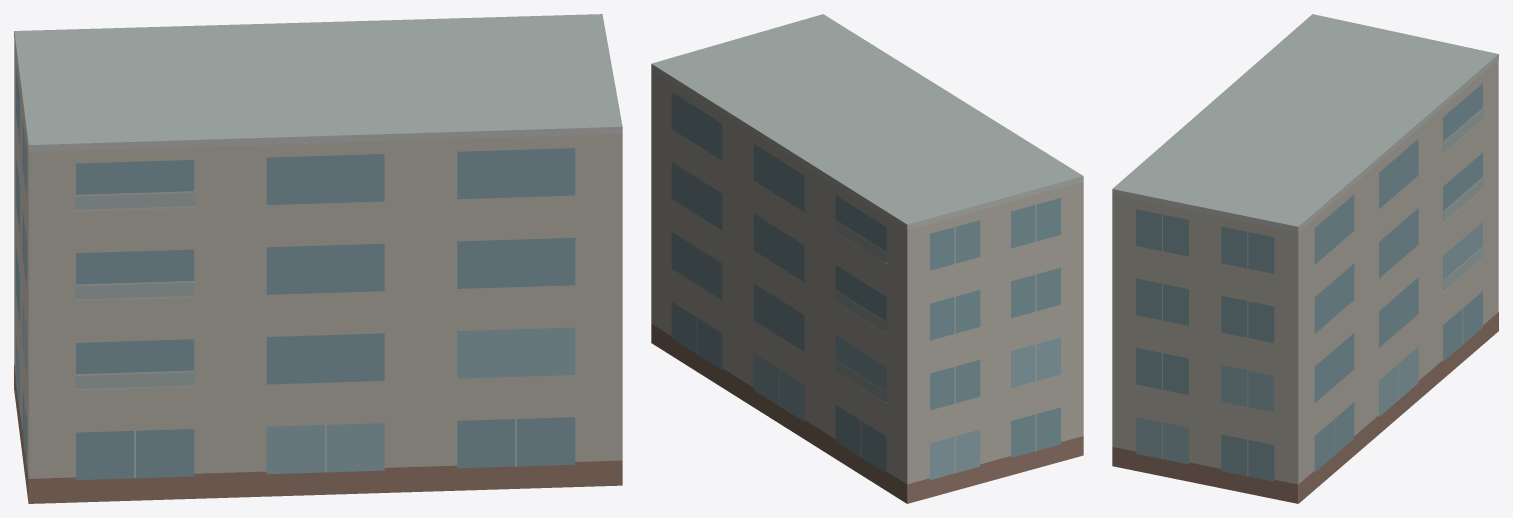
The model's file is survey-upis-32552709.glb.
3 renders of one model, left to right at view 1: azimuth 30°, elevation 25°; view 2: azimuth 150°, elevation 25°; view 3: azimuth 270°, elevation 25°, orthographic. The views are drawn at different scales.
Visible parts, largest first — view 1: survey-upis-32552709.tmp; view 2: survey-upis-32552709.tmp; view 3: survey-upis-32552709.tmp.
Boxes of the visible parts, x1,y1,x2,y2 form: survey-upis-32552709.tmp: (14, 14, 622, 503); survey-upis-32552709.tmp: (651, 14, 1083, 503); survey-upis-32552709.tmp: (1112, 14, 1498, 503).
Size of the model in its own units: 20.43 by 12.4 by 15.68.
